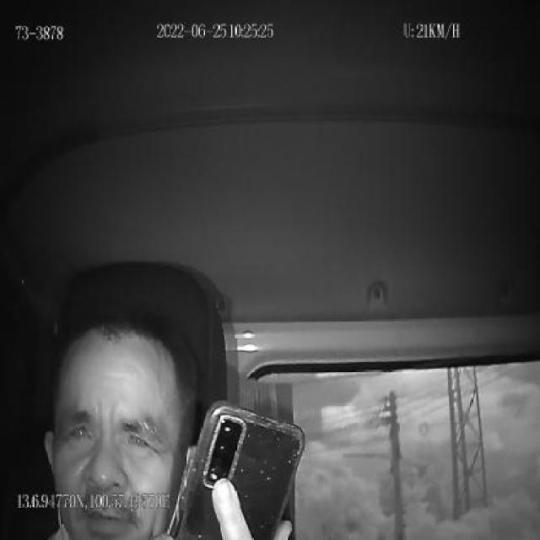phone: (173, 400, 302, 540)
